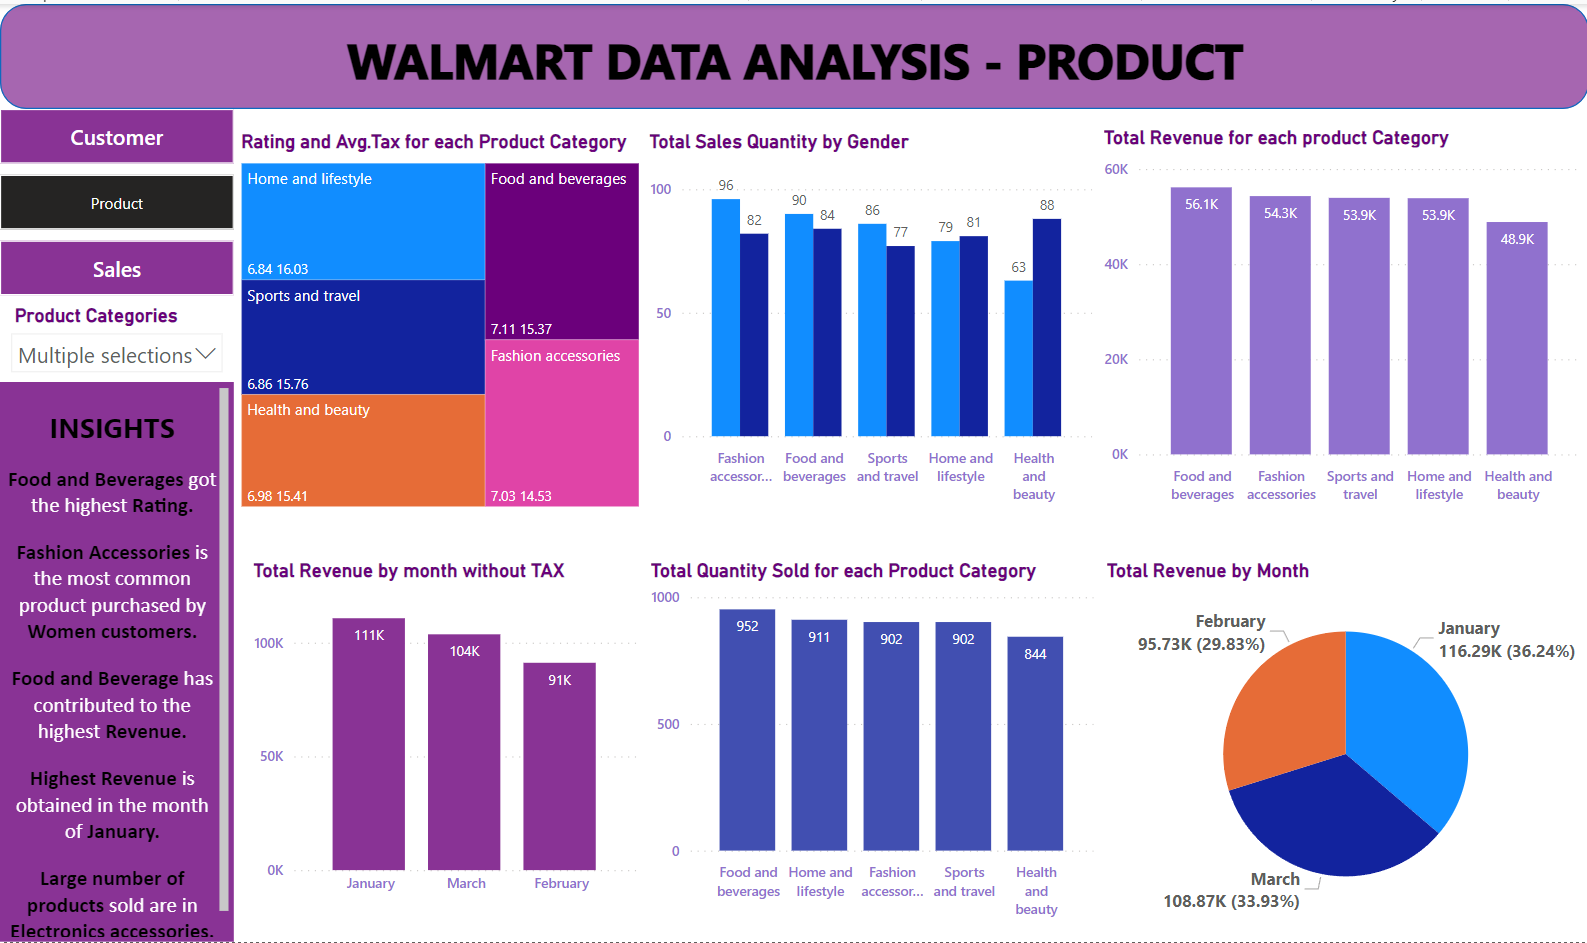

Layout of this report page (visuals, bound fields, positions):
{"tool":"powerbi","page":{"name":"Product","canvas":[1400,827],"ordinal":1},"visuals":[{"type":"columnChart","title":"Total Quantity Sold for each Product Category","fields":{"Category":["quantity of sales for each product_line.product_line"],"Y":["Sum(quantity of sales for each product_line.qty)"]},"box":[567.9,488.7,400.2,323.6],"z":0},{"type":"pieChart","title":"Total Revenue by Month","fields":{"Category":["Total Revenue by Month.month_name"],"Y":["Sum(Total Revenue by Month.total_revenue)"]},"box":[969.4,488.7,430.6,323.6],"z":1000},{"type":"shape","box":[0,0,1400,92.5],"z":2000},{"type":"textbox","box":[33,14.5,1335.3,67.4],"z":3000},{"type":"clusteredColumnChart","title":"Total Sales Quantity  by Gender","fields":{"Category":["Product line by Gender.product_line"],"Series":["Product line by Gender.gender"],"Y":["Sum(Product line by Gender.total_cnt)"]},"box":[566.6,110.9,400.2,336.8],"z":4000},{"type":"columnChart","title":"Total Revenue for each product Category","fields":{"Category":["Largest Revenue by product.product_line"],"Y":["Sum(Largest Revenue by product.total_revenue)"]},"box":[966.8,107,430.6,340.8],"z":5000},{"type":"columnChart","title":"Total Revenue by month without TAX","fields":{"Category":["P.COGS by Month.month_name"],"Y":["Sum(P.COGS by Month.cogs)"]},"box":[217.9,488.7,348.7,303.8],"z":6000},{"type":"treemap","title":"Rating and Avg.Tax for each Product Category","fields":{"Group":["Product line by Rating.product_line"],"Details":["Product line by Rating.avg_rating"],"Values":["Sum(Product line by VAT.avg_tax)"]},"box":[207.4,110.9,360.6,336.8],"z":7000},{"type":"slicer","fields":{"Values":["P.Count of unique product lines.product_line"]},"box":[0,258.9,206,74],"z":8000},{"type":"textbox","box":[0,107,206,55.5],"z":9000},{"type":"pageNavigator","box":[0,92.5,206,166.4],"z":10000},{"type":"textbox","box":[0,332.8,206,494],"z":11000}]}

Visuals, with their boxes in screenshot pixels (x1, y1, x2, y2), scaled from the page's 1400x827 canvas onto the 1587x943 screenshot:
"Total Quantity Sold for each Product Category" columnChart: x1=644, y1=557, x2=1097, y2=926
"Total Revenue by Month" pieChart: x1=1099, y1=557, x2=1586, y2=926
shape: x1=0, y1=0, x2=1586, y2=105
textbox: x1=37, y1=17, x2=1551, y2=93
"Total Sales Quantity  by Gender" clusteredColumnChart: x1=642, y1=126, x2=1096, y2=510
"Total Revenue for each product Category" columnChart: x1=1096, y1=122, x2=1584, y2=511
"Total Revenue by month without TAX" columnChart: x1=247, y1=557, x2=642, y2=904
"Rating and Avg.Tax for each Product Category" treemap: x1=235, y1=126, x2=644, y2=510
slicer - P.Count of unique product lines.product_line: x1=0, y1=295, x2=234, y2=380
textbox: x1=0, y1=122, x2=234, y2=185
pageNavigator: x1=0, y1=105, x2=234, y2=295
textbox: x1=0, y1=379, x2=234, y2=942
